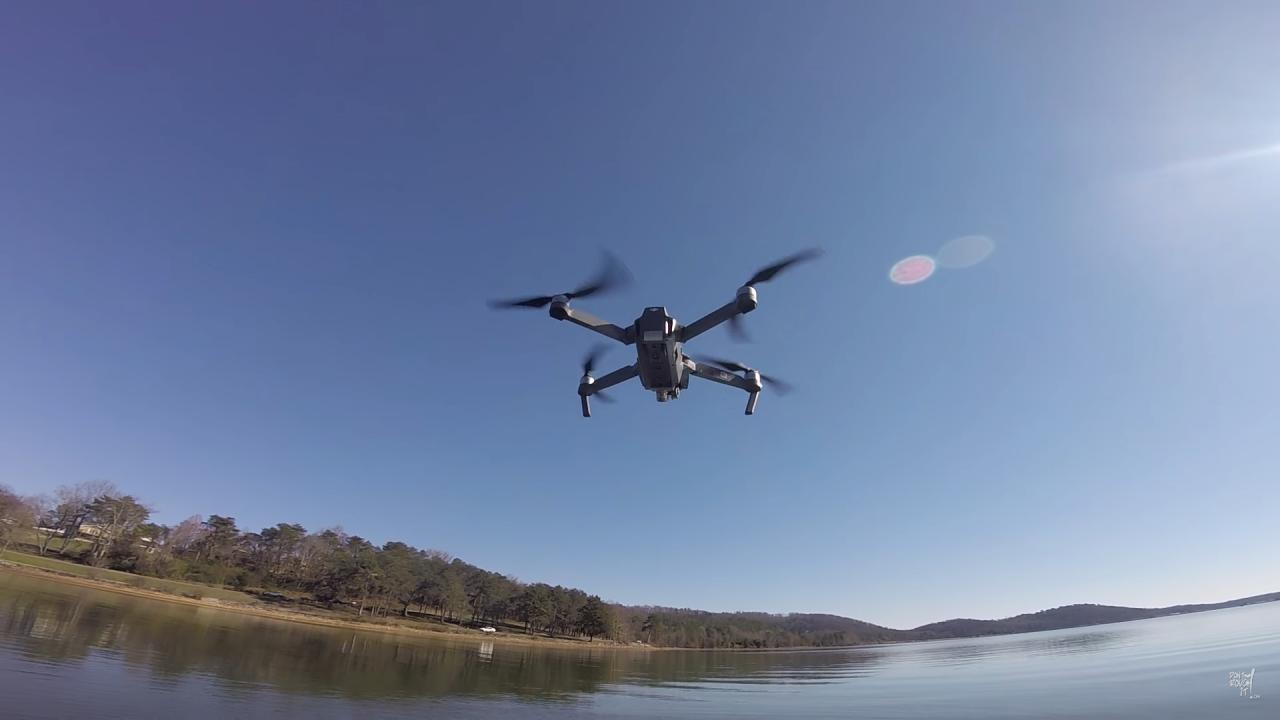Drone: (467, 239, 830, 434)
